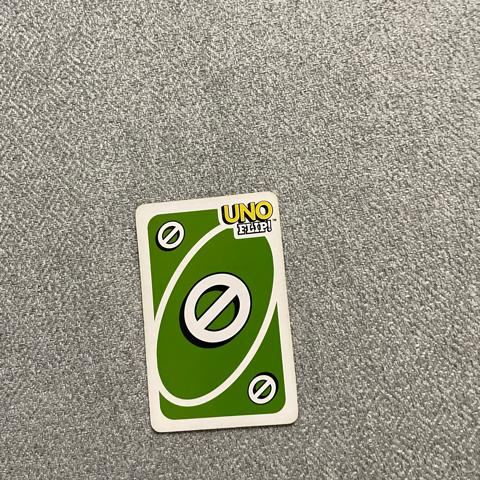lgreenskip-20: (145, 210, 194, 260)
